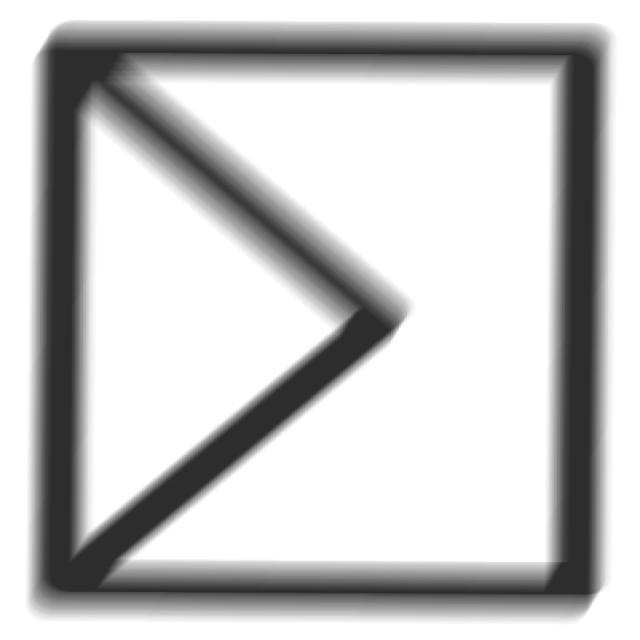letter: (20, 14, 620, 626)
